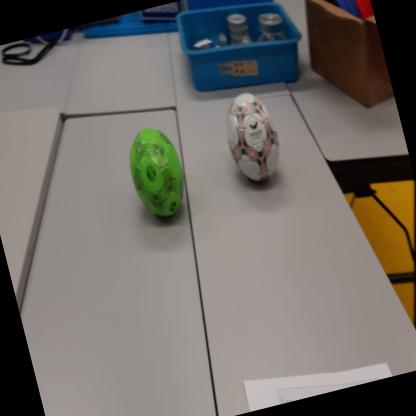ball: (121, 122, 195, 226), (216, 88, 289, 190)
